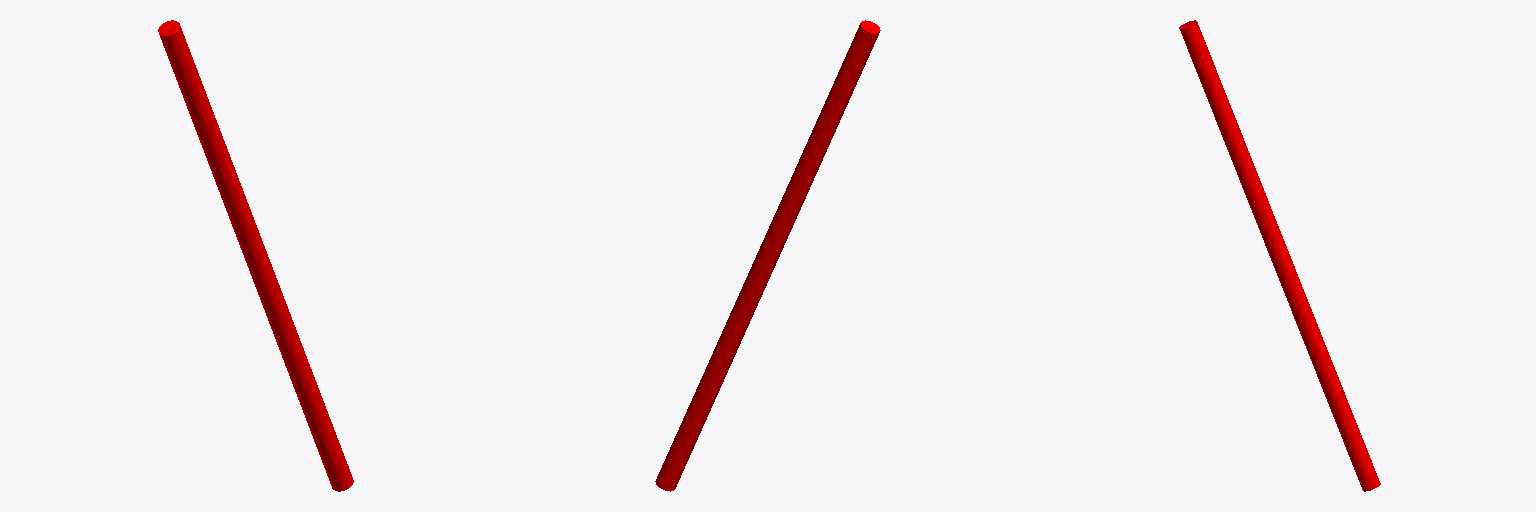
robot.urdf — tree_88.urdf:
<?xml version='1.0' encoding='utf-8'?>
<robot name="tree_88.urdf">
  <link name="branch_0">
    <inertial>
      <origin xyz="0.0 0.0 0.0" rpy="0.0 -0.0 0.0" />
      <mass value="1.0" />
      <inertia ixx="1.0" ixy="0.0" ixz="0.0" iyy="1.0" iyz="0.0" izz="1.0" />
    </inertial>
    <visual name="branch_0_visual">
      <geometry>
        <cylinder radius="0.06915348686864345" length="3.725597520779575" />
      </geometry>
      <material name="semantic_material" />
      <origin xyz="-0.6825857713375908 -0.1359131834216702 1.7278956834975263" rpy="0.0 0.3829123875748758 -2.9450480342625442" />
    </visual>
    <collision name="branch_0_collision">
      <geometry>
        <cylinder radius="0.06915348686864345" length="3.725597520779575" />
      </geometry>
      <origin xyz="-0.6825857713375908 -0.1359131834216702 1.7278956834975263" rpy="0.0 0.3829123875748758 -2.9450480342625442" />
    </collision>
  </link>
  <material name="semantic_material">
    <color rgba="1. 0. 0. 1." />
  </material>
</robot>

--- Facts derived from the render (not from the file) ---
3 views of the same robot in one strip: view 1: azimuth 30°, elevation 25°; view 2: azimuth 150°, elevation 25°; view 3: azimuth 330°, elevation 25° (orthographic).
Robot: tree_88.urdf — 1 links, 0 joints (none); root link branch_0; default pose: all joints at 0.
Visible links, largest first — view 1: branch_0; view 2: branch_0; view 3: branch_0.
Boxes of the visible links, <box> form: branch_0: <box>158,20,353,491</box>; branch_0: <box>655,20,880,491</box>; branch_0: <box>1179,20,1380,491</box>.
Bounding box of the posed robot: 1.49 × 0.4098 × 3.51 m (x, y, z).
Geometry: primitives only (box / cylinder / sphere), no mesh files.